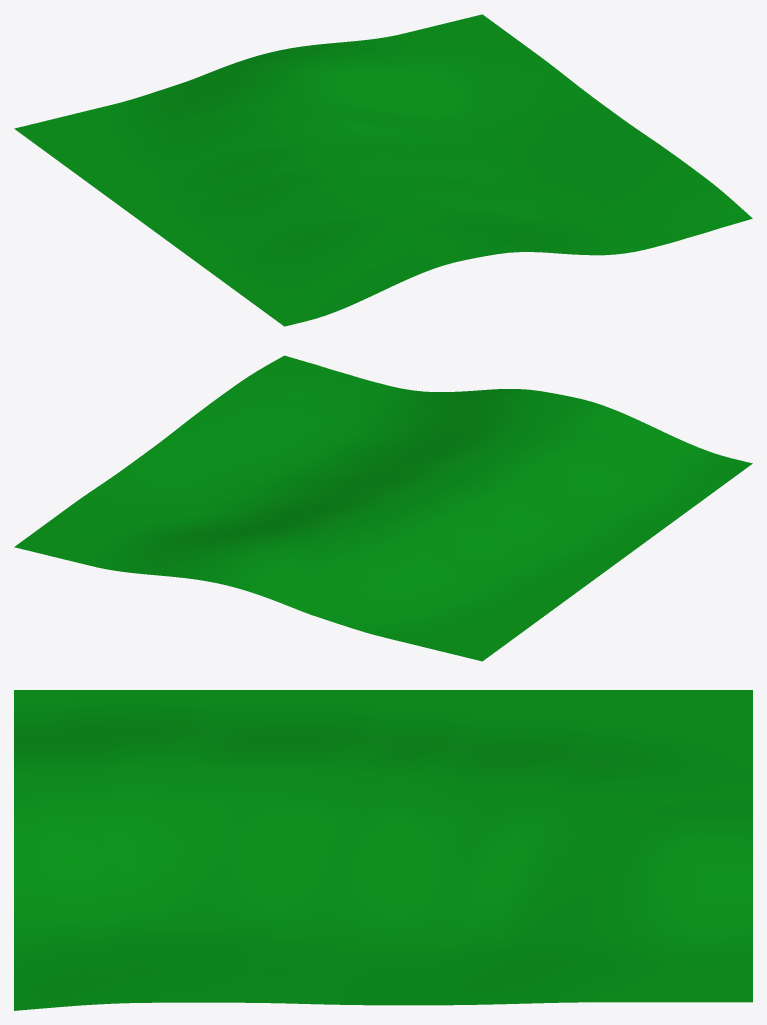
Rendered from CHUNK_-1_0.glb.
3 renders of one model, top to bottom at view 1: azimuth 30°, elevation 25°; view 2: azimuth 150°, elevation 25°; view 3: azimuth 270°, elevation 25°, orthographic. The views are drawn at different scales.
Visible parts, largest first — view 1: Chunk_-1_0; view 2: Chunk_-1_0; view 3: Chunk_-1_0.
Boxes of the visible parts, box(x1,y1,x2,y2) form: Chunk_-1_0: box(14, 14, 752, 326); Chunk_-1_0: box(14, 355, 752, 661); Chunk_-1_0: box(14, 690, 752, 1010).
Size of the model in its own units: 99.99 by 6.89 by 99.99.
